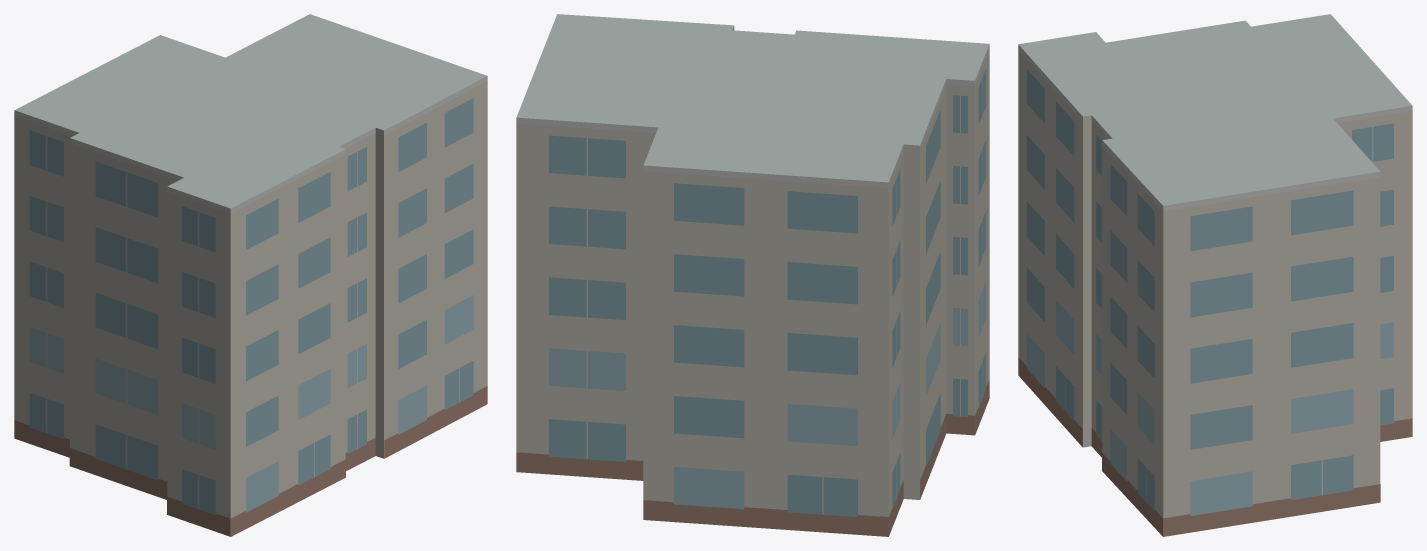
The model's file is survey-upis-32905796.glb.
The picture shows the model from 3 angles, left to right: view 1: azimuth 30°, elevation 25°; view 2: azimuth 150°, elevation 25°; view 3: azimuth 270°, elevation 25°; orthographic projection. The views are drawn at different scales.
Visible parts, largest first — view 1: survey-upis-32905796.tmp; view 2: survey-upis-32905796.tmp; view 3: survey-upis-32905796.tmp.
Boxes of the visible parts, box(x1,y1,x2,y2) form: survey-upis-32905796.tmp: box(14, 14, 487, 536); survey-upis-32905796.tmp: box(516, 14, 989, 536); survey-upis-32905796.tmp: box(1018, 14, 1412, 536).
Bounding box in the file's own units: 18.97 × 15.25 × 16.48.
